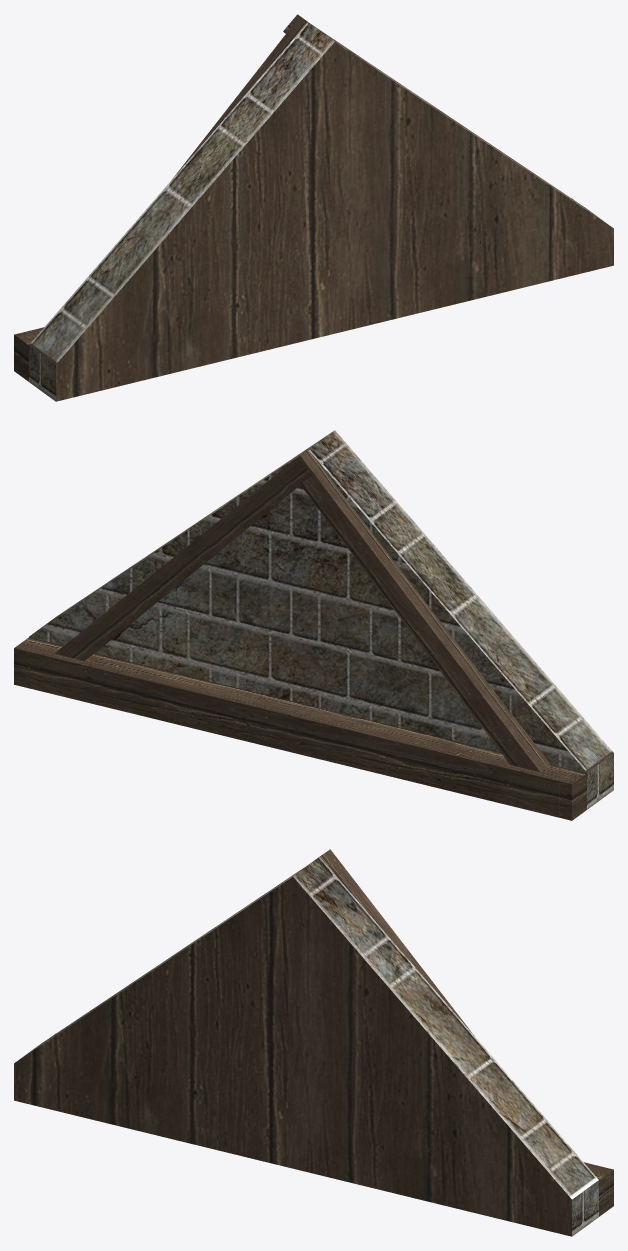
The model's file is ARC1010231.fbx.
The picture shows the model from 3 angles, top to bottom: view 1: azimuth 30°, elevation 25°; view 2: azimuth 150°, elevation 25°; view 3: azimuth 330°, elevation 25°; orthographic projection.
Parts seen in each view (by area): view 1: smARC1010231; view 2: smARC1010231; view 3: smARC1010231.
Boxes of the visible parts, x1,y1,x2,y2 form: smARC1010231: (14,14,613,401); smARC1010231: (14,430,613,820); smARC1010231: (14,849,613,1236).
Bounding box in the file's own units: 268 × 134 × 34.9.
1 material, 1 textured.
